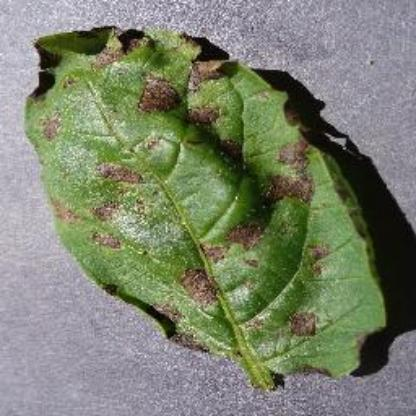Early-Blight: (25, 20, 396, 390)
